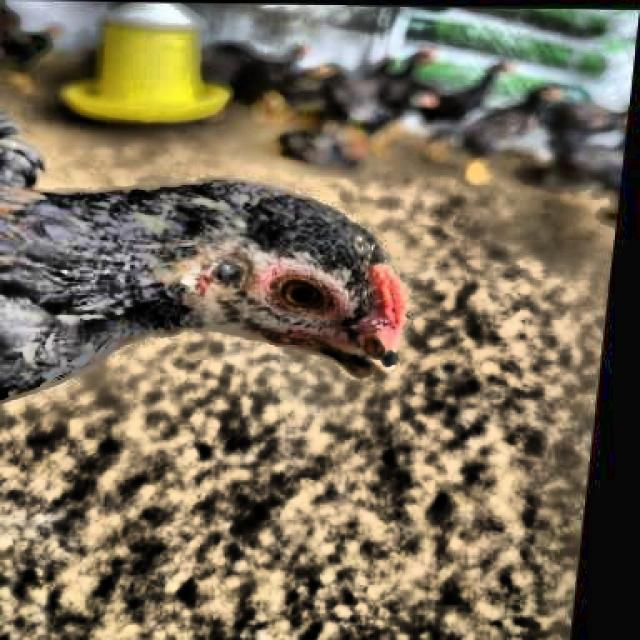Healthy: (244, 265, 344, 327)
